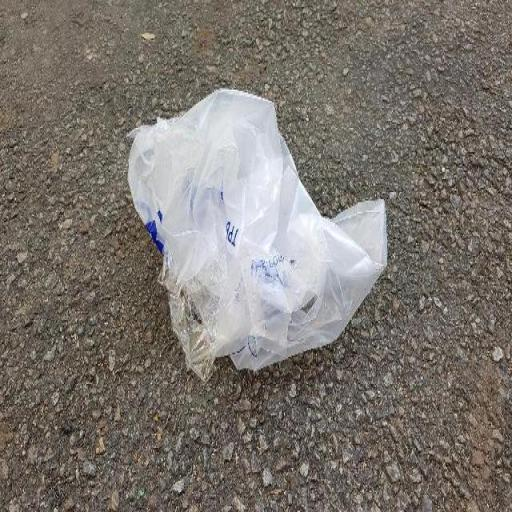plastic-bag: (124, 88, 389, 374)
